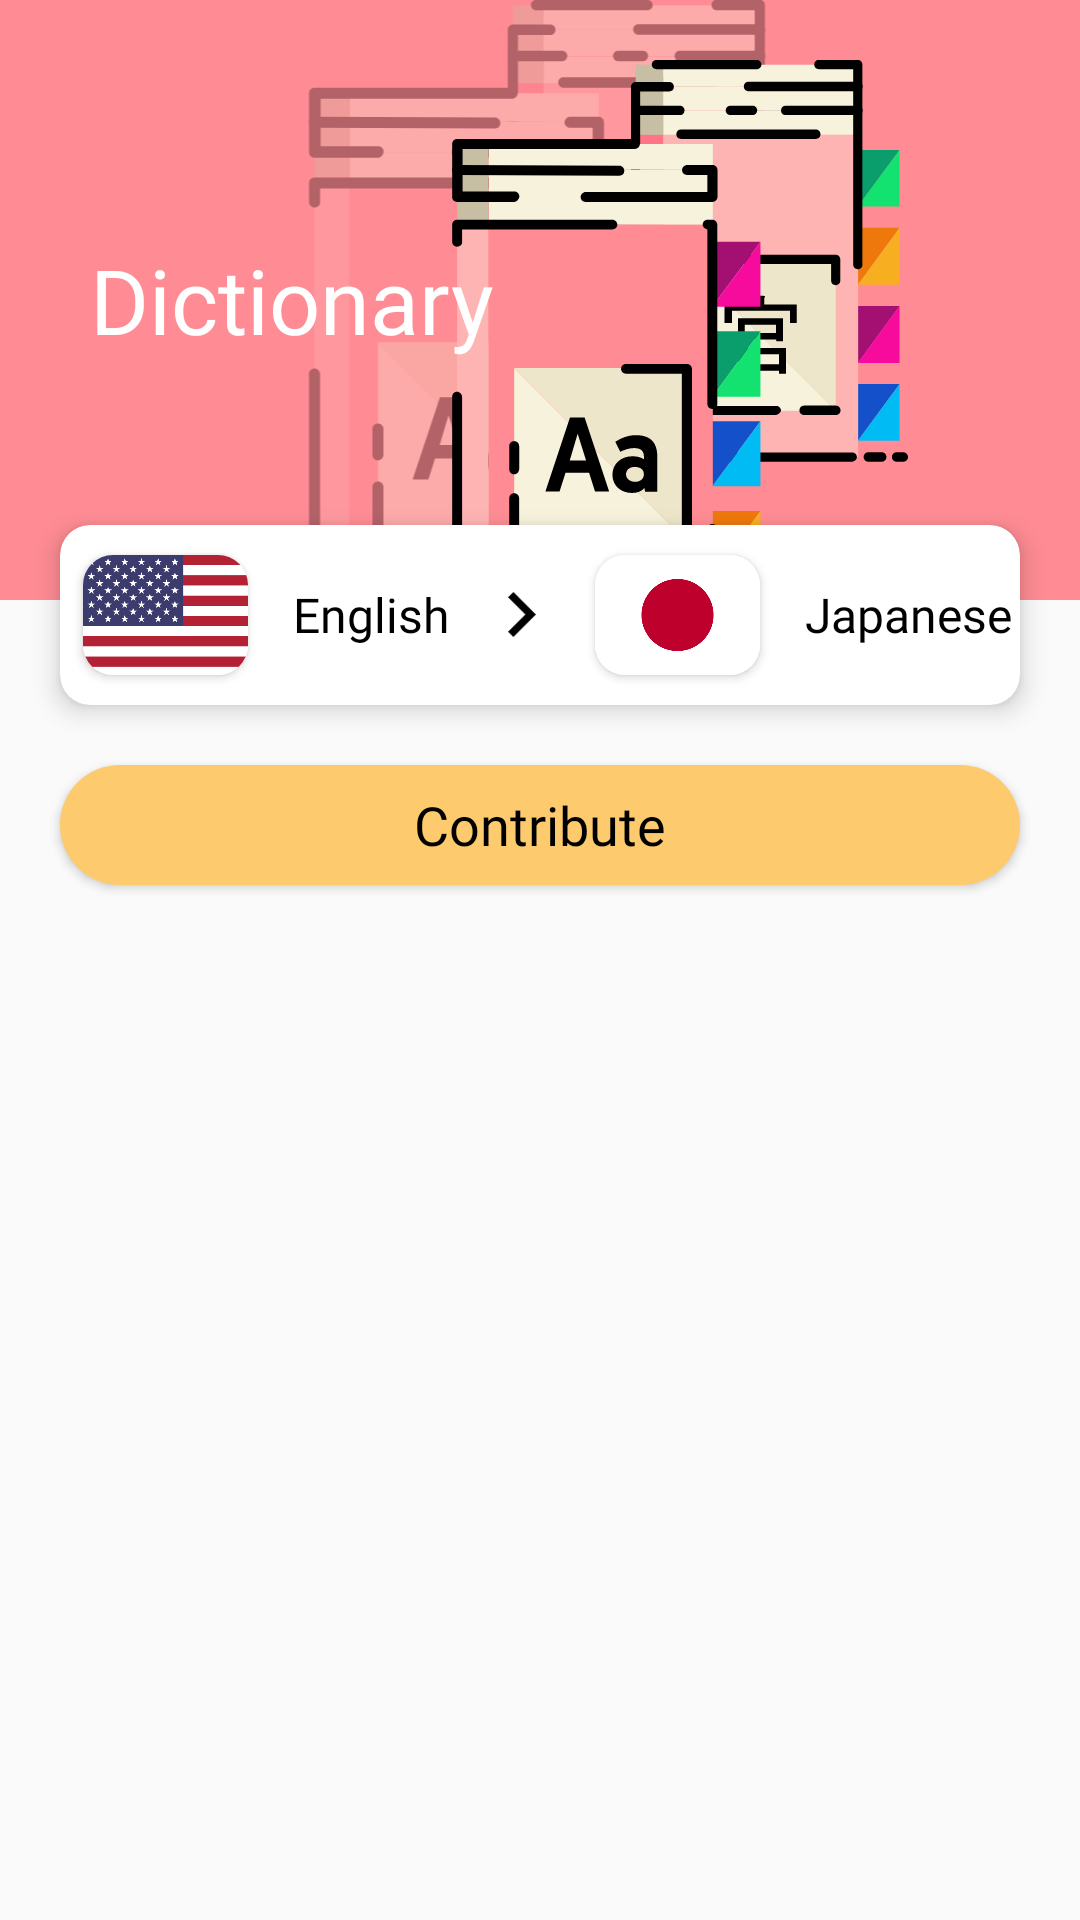

Icons on this 1080px×1920px Android screen, each with the point to tap as (x=x, y=y):
arrow translate: (x=522, y=614)
japan flag: (x=677, y=626)
usa flag: (x=165, y=615)
